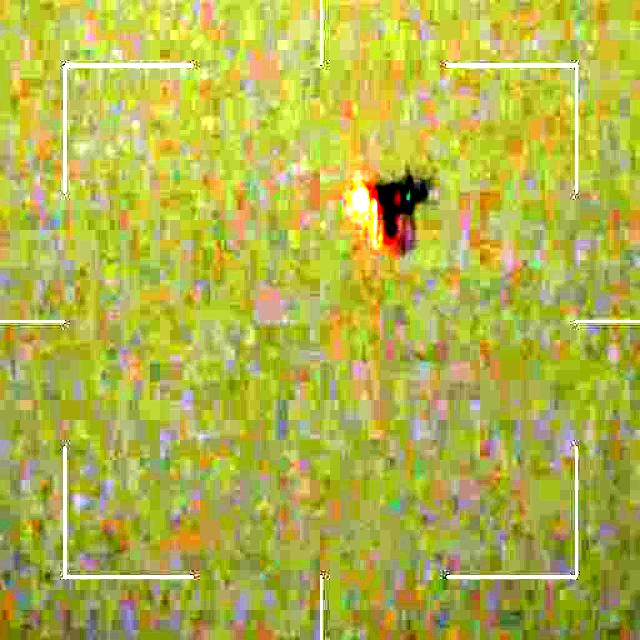bird: (346, 164, 436, 251)
